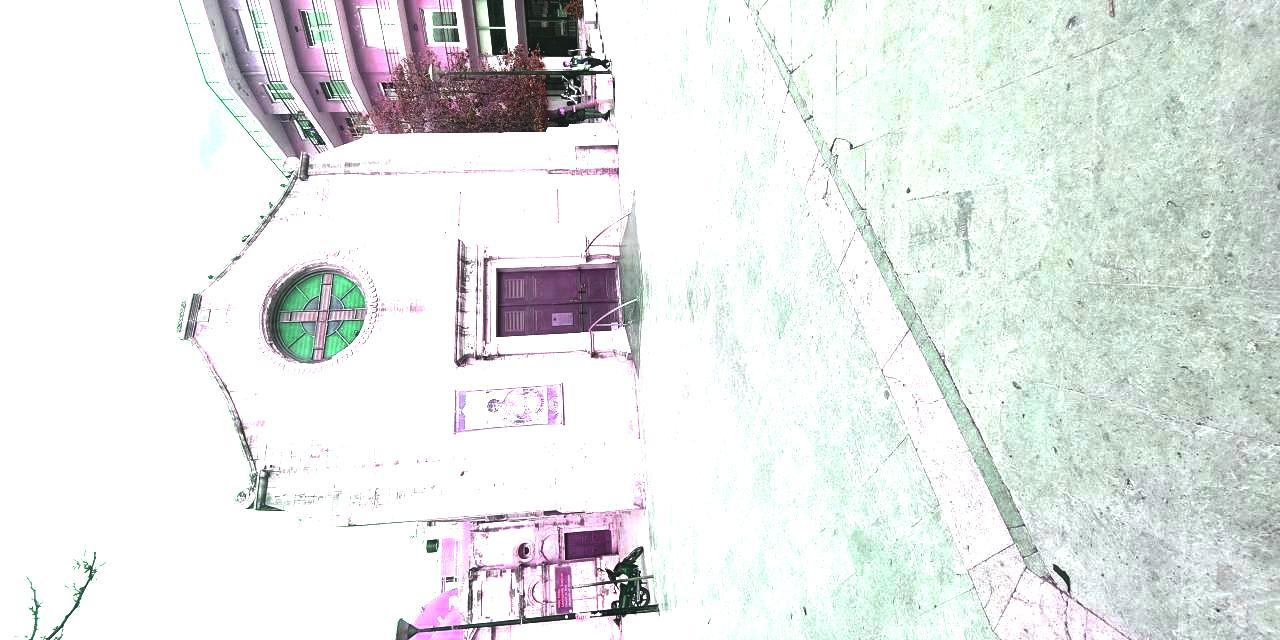Agia Aikaterini: (173, 102, 642, 544)
